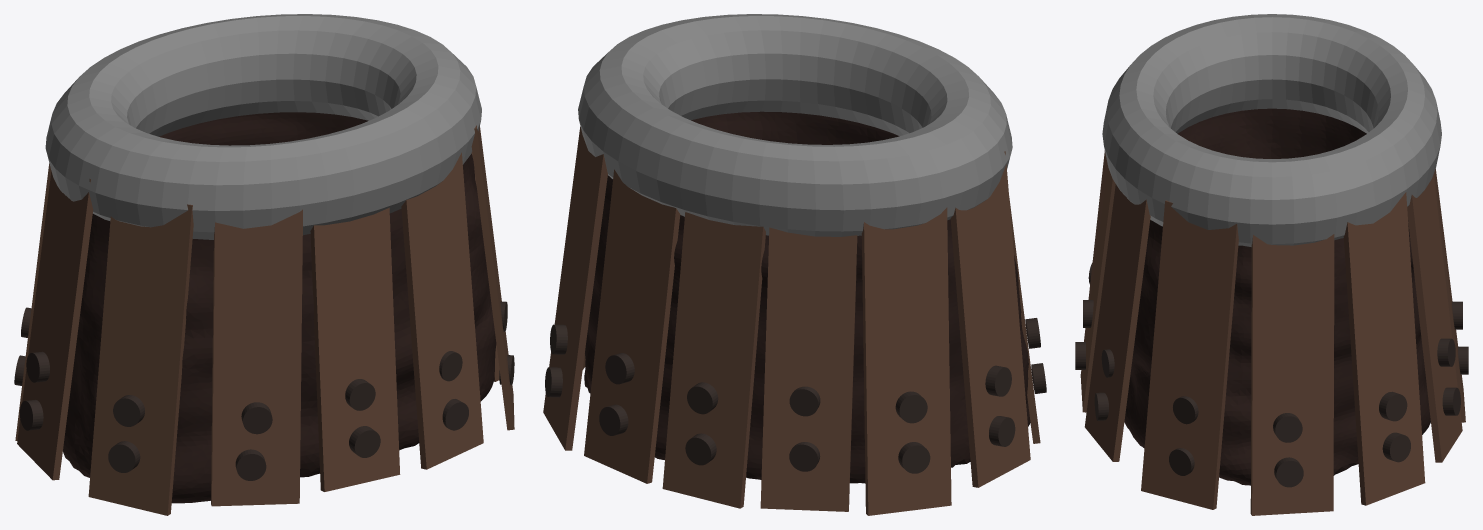
Rendered from armorskirt.fbx.
3 views of the same model, side by side, from view 1: azimuth 30°, elevation 25°; view 2: azimuth 150°, elevation 25°; view 3: azimuth 270°, elevation 25° (orthographic). The views are drawn at different scales.
Parts seen in each view (by area): view 1: Torus.001, Cylinder, Plane.003, Plane.005, Plane.001, Plane.002, Plane.009, Plane.004, Plane.007, Cylinder.007, Cylinder.010, Cylinder.009 (+7 smaller); view 2: Torus.001, Plane.007, Plane.012, Plane.006, Plane.008, Cylinder, Plane.009, Plane.011, Plane.005, Cylinder.024, Cylinder.023, Cylinder.014 (+7 smaller); view 3: Torus.001, Cylinder, Plane.010, Plane.004, Plane.011, Plane.002, Plane.008, Plane.001, Plane.006, Cylinder.016, Cylinder.015, Cylinder.018 (+6 smaller).
Part boxes in pixels (x1,y1,x2,y2): Torus.001: (45, 14, 481, 239); Cylinder: (63, 112, 496, 503); Plane.003: (211, 209, 302, 506); Plane.005: (88, 204, 193, 515); Plane.001: (310, 207, 400, 491); Plane.002: (401, 152, 483, 469); Plane.009: (17, 171, 93, 480); Plane.004: (471, 125, 514, 430); Plane.007: (15, 163, 51, 440); Cylinder.007: (241, 402, 272, 434); Cylinder.010: (108, 441, 140, 472); Cylinder.009: (113, 395, 144, 426); Torus.001: (578, 14, 1012, 236); Plane.007: (861, 207, 951, 515); Plane.012: (760, 227, 857, 511); Plane.006: (662, 212, 765, 508); Plane.008: (584, 169, 680, 483); Cylinder: (584, 111, 1030, 483); Plane.009: (950, 151, 1030, 487); Plane.011: (543, 126, 607, 450); Plane.005: (1009, 198, 1040, 443); Cylinder.024: (895, 391, 927, 423); Cylinder.023: (898, 442, 930, 473); Cylinder.014: (685, 433, 716, 465); Torus.001: (1102, 14, 1441, 246); Cylinder: (1124, 108, 1430, 485); Plane.010: (1250, 234, 1334, 515); Plane.004: (1141, 200, 1238, 509); Plane.011: (1343, 192, 1425, 505); Plane.002: (1084, 184, 1150, 461); Plane.008: (1407, 175, 1462, 462); Plane.001: (1080, 165, 1115, 412); Plane.006: (1433, 169, 1465, 422); Cylinder.016: (1274, 457, 1303, 487); Cylinder.015: (1273, 413, 1302, 442); Cylinder.018: (1382, 432, 1410, 462).
Size of the model in its own units: 37.77 by 27.66 by 30.26.
